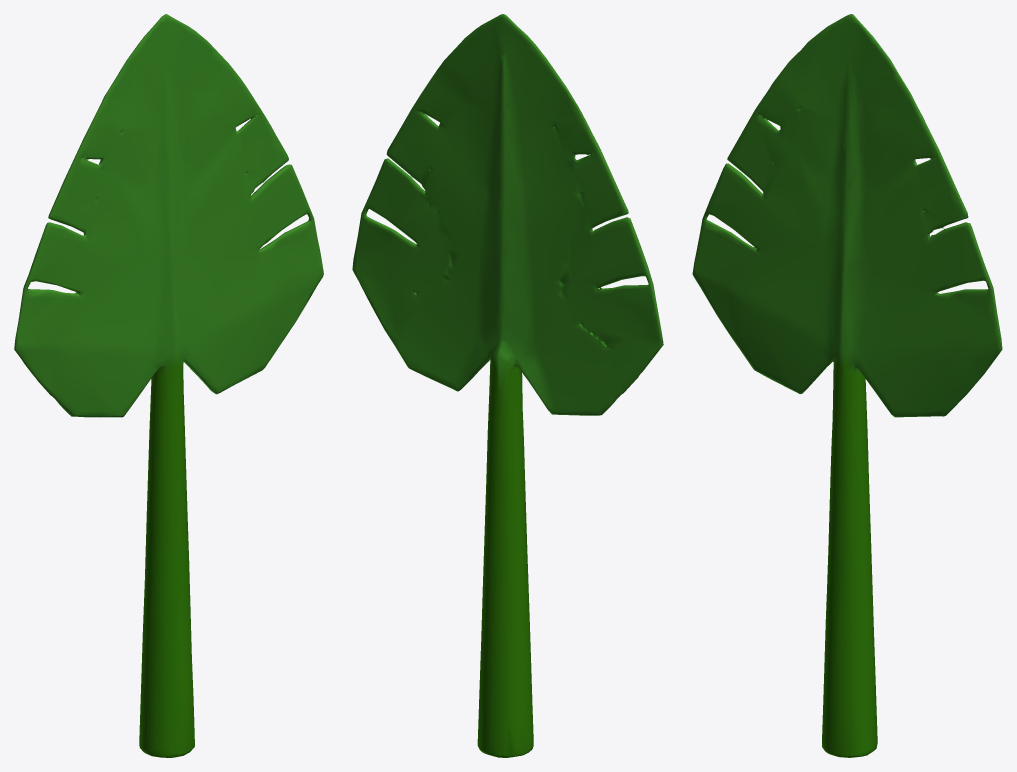
Rendered from gen3d-giant-leaf-lod0.glb.
3 views of the same model, side by side, from view 1: azimuth 30°, elevation 25°; view 2: azimuth 150°, elevation 25°; view 3: azimuth 330°, elevation 25° (orthographic).
Parts seen in each view (by area): view 1: part_0; view 2: part_0; view 3: part_0.
Part boxes in pixels (x1,y1,x2,y2): part_0: (14, 14, 323, 757); part_0: (352, 14, 663, 757); part_0: (692, 14, 1002, 757).
Bounding box in the file's own units: 0.4429 × 1 × 0.0685.
